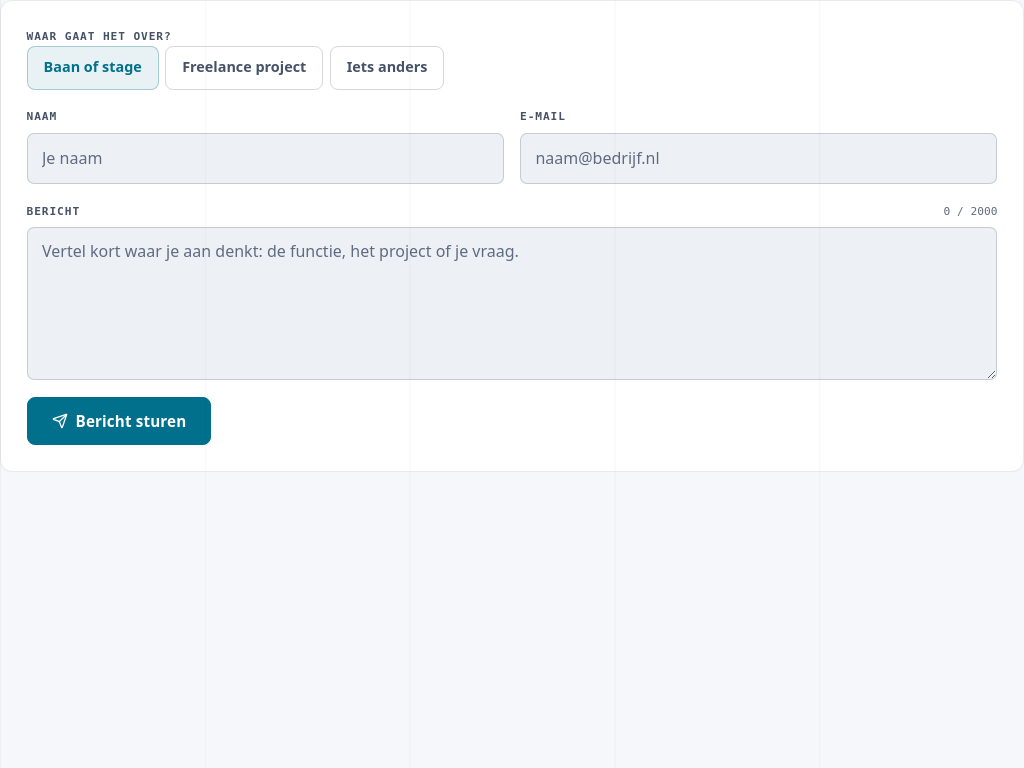
Test: ContactForm › verstuurt via EmailJS, toont een succesmelding en leegt het formulier
The image size is (1024, 768).
Click the radio button labelled "Freelance project".
click(244, 68)  # box x1=165 y1=46 x2=323 y2=90
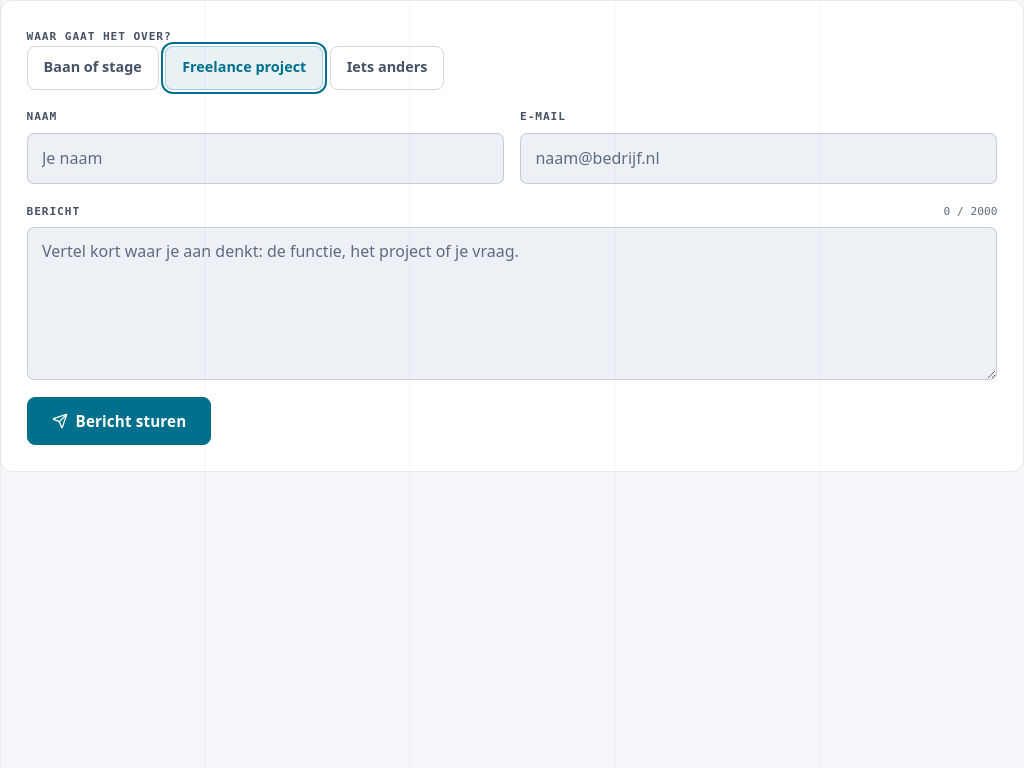
Type "Sanne de Vries" into the field labelled "Naam".
click(265, 158); type("Sanne de Vries")  # box x1=27 y1=133 x2=504 y2=184
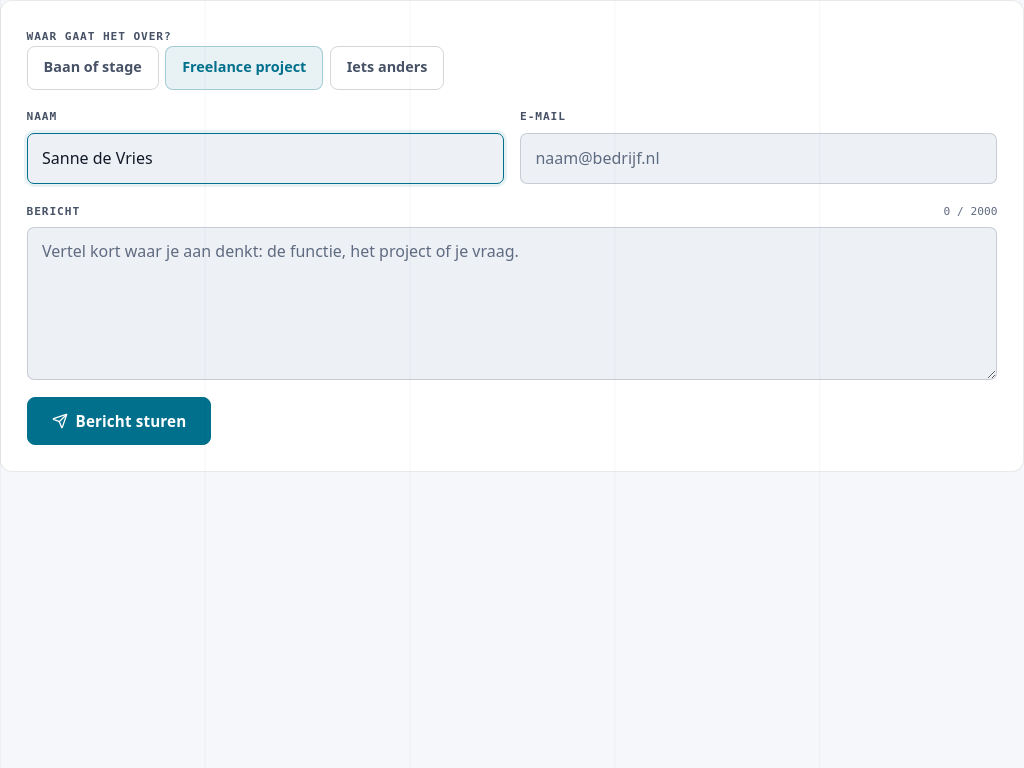
Type "sanne@bedrijf.nl" into the field labelled "E-mail".
click(759, 158); type("sanne@bedrijf.nl")  # box x1=520 y1=133 x2=997 y2=184
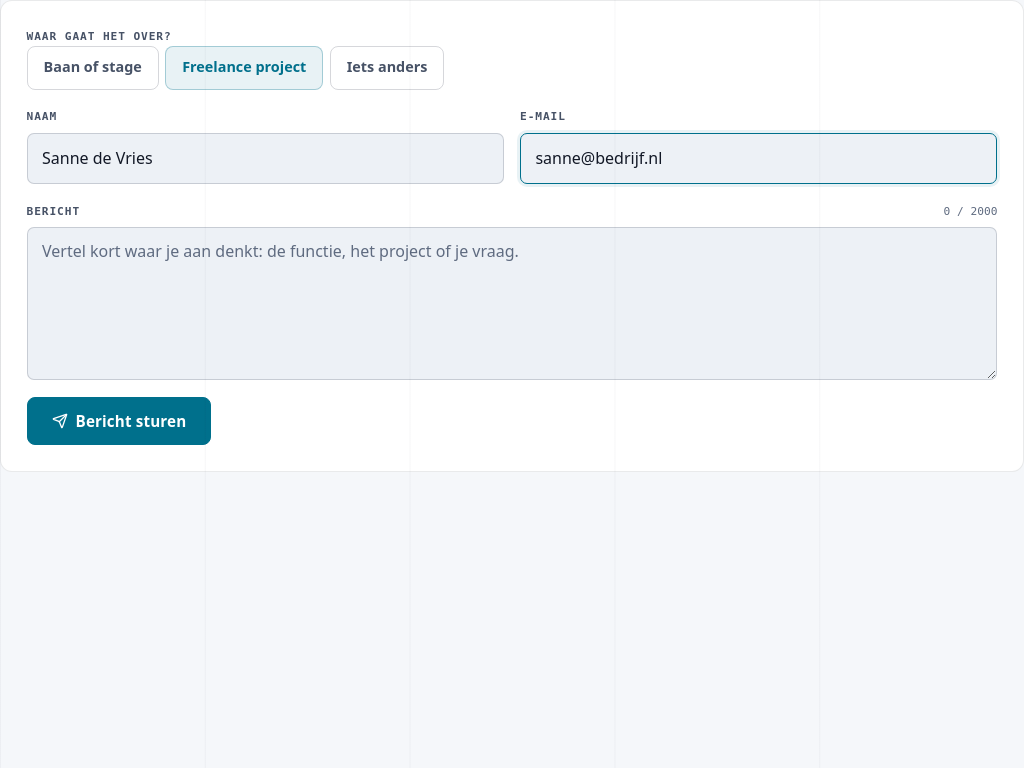
Type "We zoeken een developer voor een React-project." into the text box labelled "Bericht".
click(512, 303); type("We zoeken een developer voor een React-project.")  # box x1=27 y1=227 x2=997 y2=380
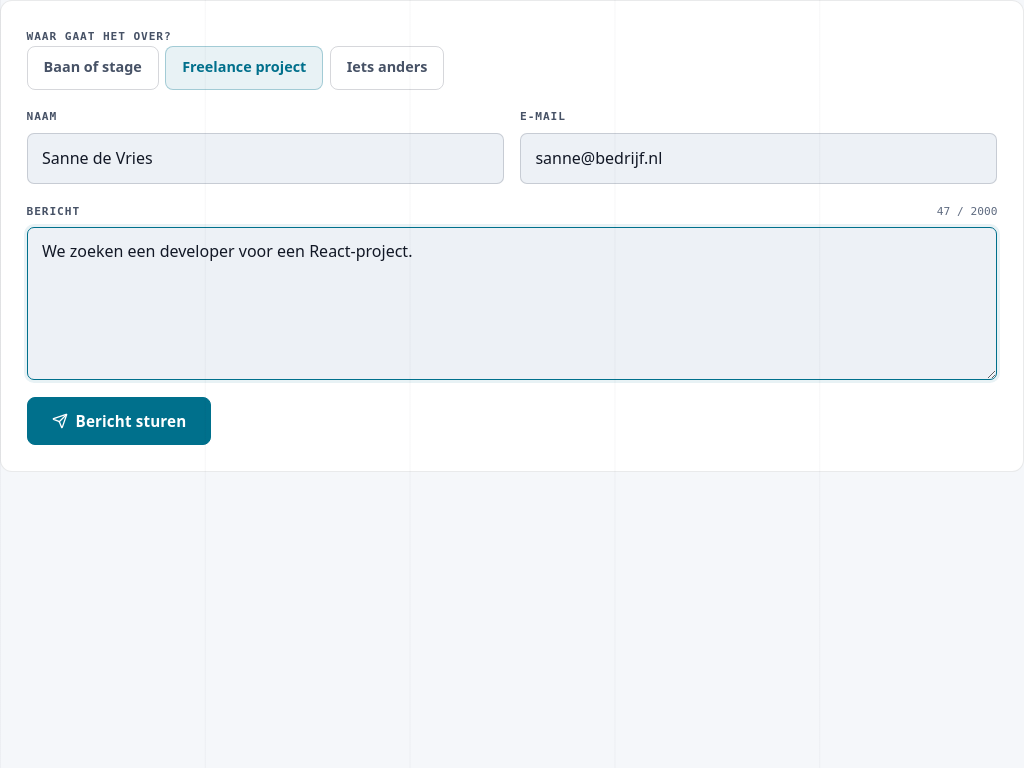
Click the button "Bericht sturen".
click(119, 421)  # box x1=27 y1=397 x2=211 y2=445
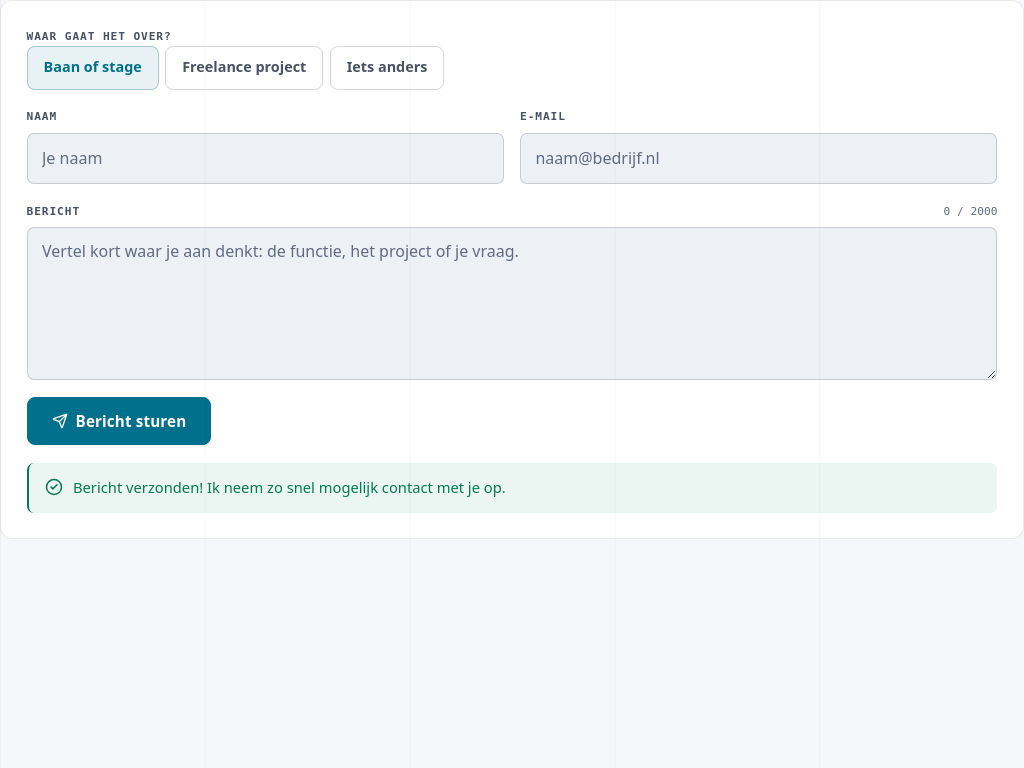
Expected: the text "Bericht verzonden" is shown, x1=73 y1=477 x2=506 y2=497
Expected: the field labelled "Naam" is empty, x1=27 y1=133 x2=504 y2=184
